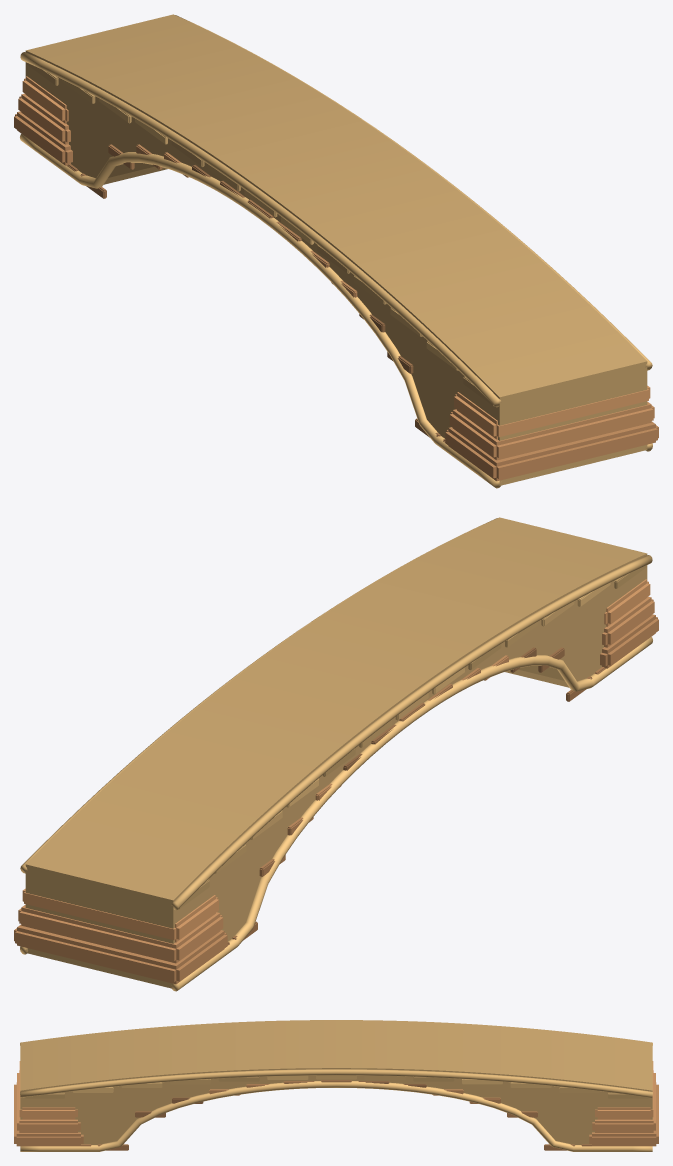
Rendered from east-bridge.glb.
3 renders of one model, top to bottom at view 1: azimuth 30°, elevation 25°; view 2: azimuth 150°, elevation 25°; view 3: azimuth 270°, elevation 25°, orthographic. The views are drawn at different scales.
Visible parts, largest first — view 1: east-bridge; view 2: east-bridge; view 3: east-bridge.
Part boxes in pixels (x1=…): east-bridge: x1=14, y1=14, x2=658, y2=488; east-bridge: x1=14, y1=517, x2=658, y2=991; east-bridge: x1=14, y1=1020, x2=658, y2=1151.
Bounding box in the file's own units: 4.25 × 3.05 × 21.5.
